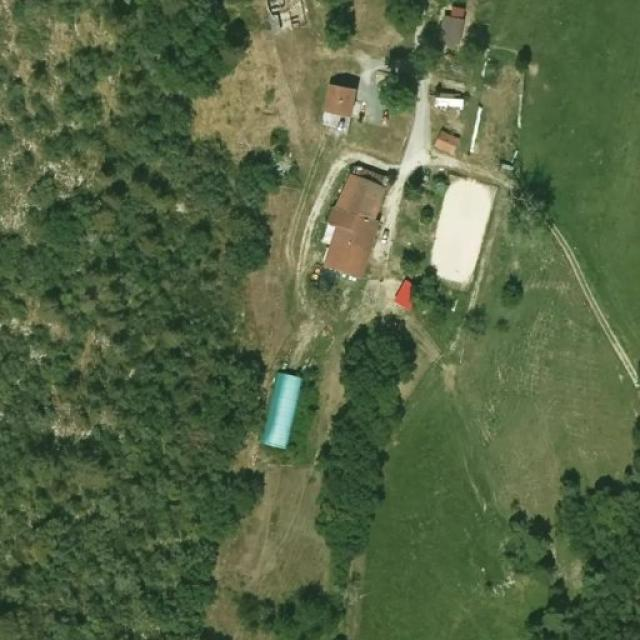ferme: (324, 168, 390, 283), (323, 77, 356, 134)
